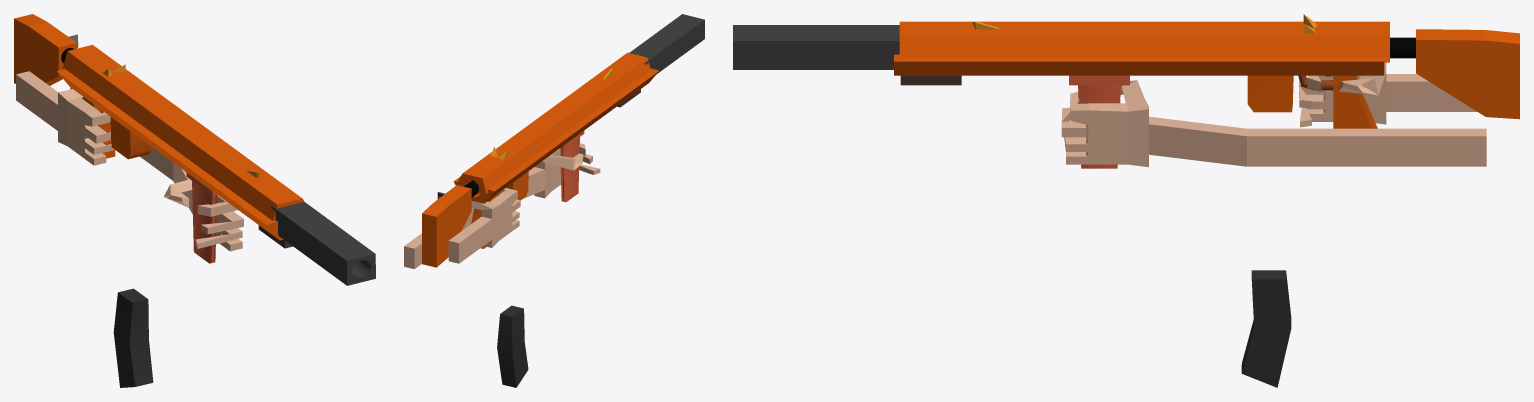
Rendered from ar reload 3.fbx.
3 renders of one model, left to right at view 1: azimuth 30°, elevation 25°; view 2: azimuth 150°, elevation 25°; view 3: azimuth 270°, elevation 25°, orthographic. The views are drawn at different scales.
Visible parts, largest first — view 1: Cube.011, Cube.005, Cube, Cube.008, Cube.004, Cube.013, Cube.009, Cube.012, Cube.010; view 2: Cube.011, Cube, Cube.009, Cube.013, Cube.005, Cube.008, Cube.004, Cube.012, Cube.010; view 3: Cube.013, Cube.011, Cube.008, Cube.009, Cube.005, Cube, Cube.004, Cube.010, Cube.012, Cube.002, Cube.003.
Boxes of the visible parts, x1,y1,x2,y2 form: Cube.011: (62,45,303,220); Cube.005: (271,201,375,285); Cube: (16,71,114,165); Cube.008: (57,68,283,240); Cube.004: (113,288,153,387); Cube.013: (70,87,243,251); Cube.009: (14,14,77,85); Cube.012: (186,172,217,263); Cube.010: (110,117,151,159); Cube.011: (456,52,650,193); Cube: (448,188,520,263); Cube.009: (422,185,471,267); Cube.013: (404,143,600,269); Cube.005: (629,14,704,74); Cube.008: (453,68,658,203); Cube.004: (497,305,528,387); Cube.012: (560,131,584,202); Cube.010: (506,171,528,200); Cube.013: (1061,80,1486,167); Cube.011: (899,21,1389,62); Cube.008: (894,54,1384,75); Cube.009: (1416,29,1519,119); Cube.005: (733,25,899,69); Cube: (1299,62,1476,127); Cube.004: (1241,270,1291,387); Cube.010: (1247,75,1293,112); Cube.012: (1069,75,1129,168); Cube.002: (1333,75,1377,128); Cube.003: (900,75,961,85).
Bounding box in the file's own units: 224 × 929 × 1822.
Materials: 11 (1 with a texture image).
